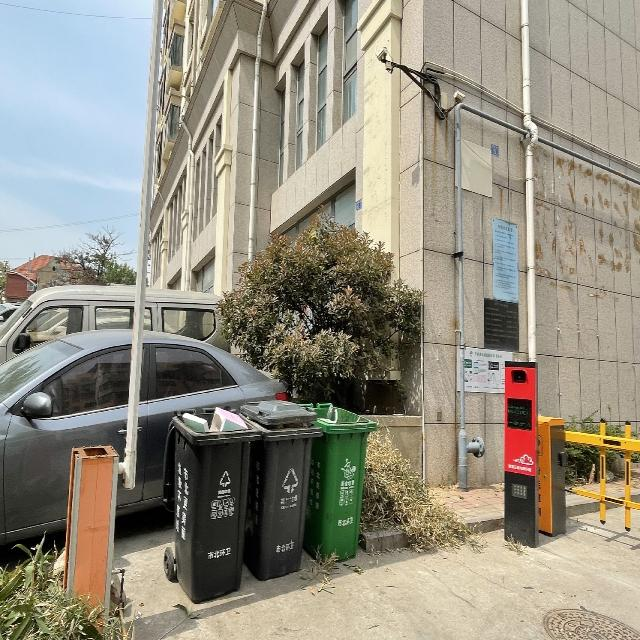overflow: (161, 405, 259, 602), (240, 400, 322, 582), (302, 402, 376, 564)
